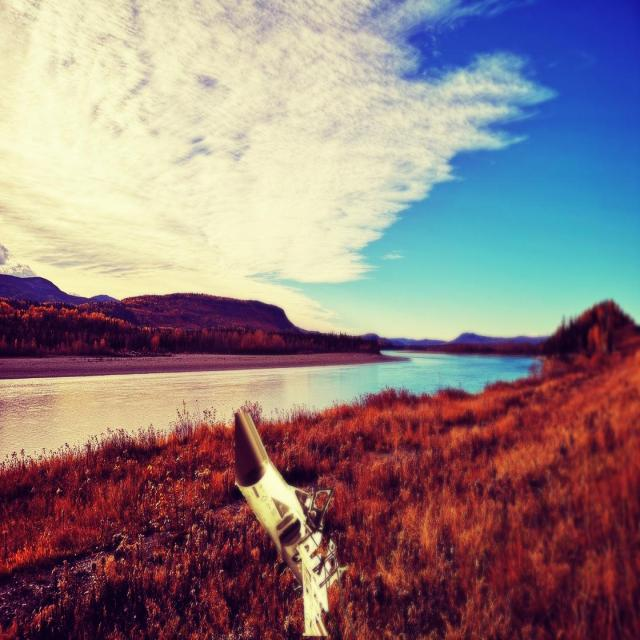airplane: (232, 408, 352, 638)
